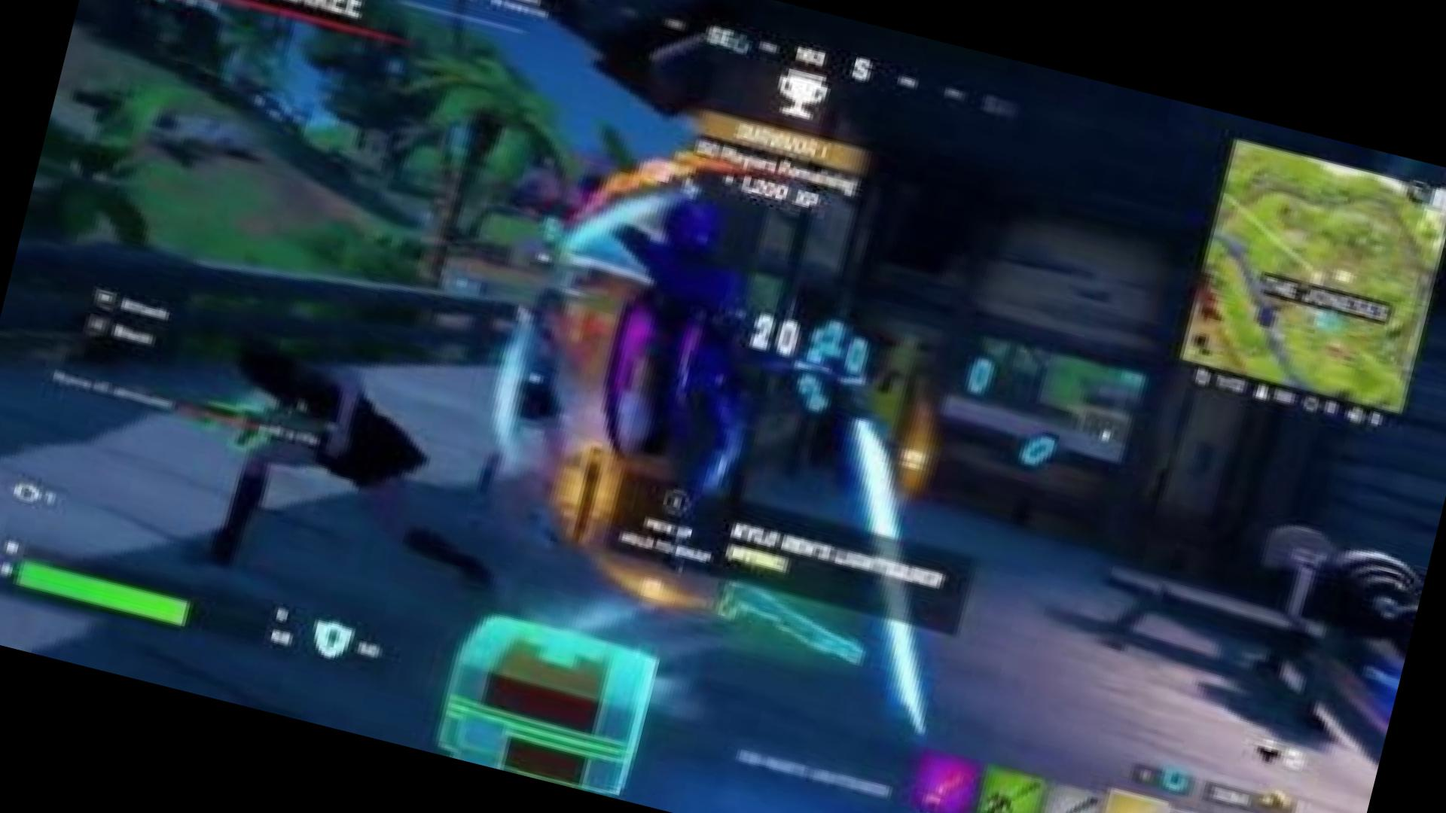player: (144, 335, 460, 625)
